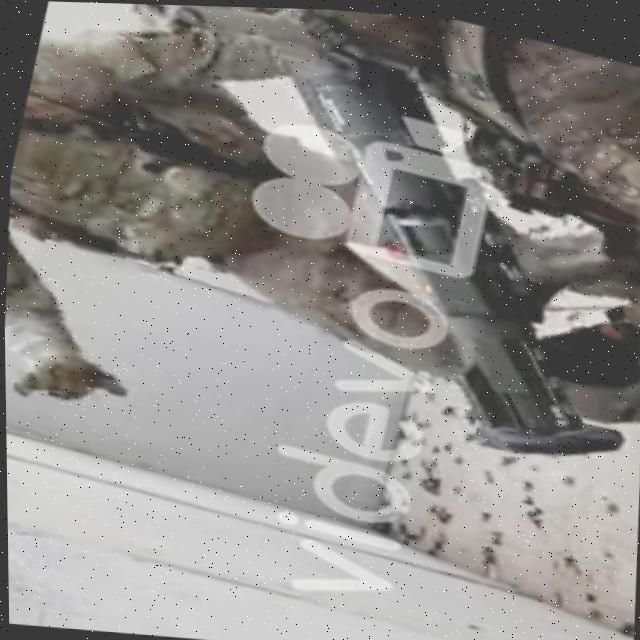rocket: (209, 53, 640, 472)
